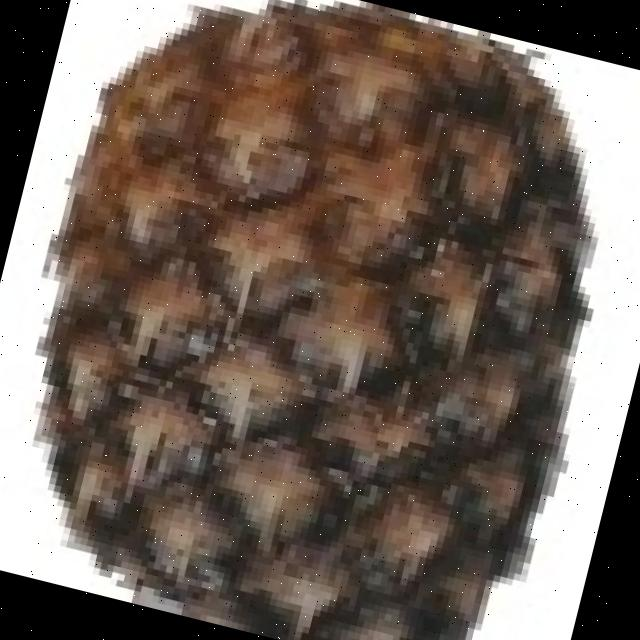pineapple: (39, 0, 581, 640)
